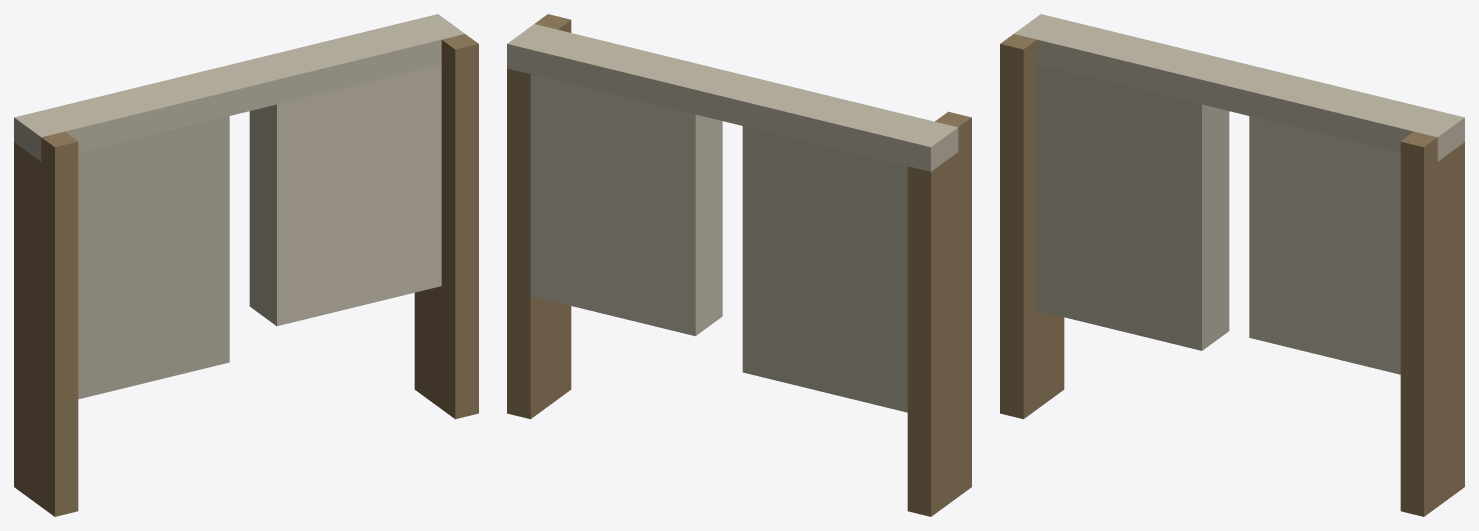
File: tendedero_02.glb
3 views of the same model, side by side, from view 1: azimuth 30°, elevation 25°; view 2: azimuth 150°, elevation 25°; view 3: azimuth 330°, elevation 25° (orthographic).
Parts seen in each view (by area): view 1: tendedero_02; view 2: tendedero_02; view 3: tendedero_02.
Boxes of the visible parts, left/top/right/bottom form: tendedero_02: left=14, top=14, right=478, bottom=516; tendedero_02: left=507, top=14, right=971, bottom=516; tendedero_02: left=1000, top=14, right=1464, bottom=516.
Size of the model in its own units: 1.8 by 1.5 by 0.3.
